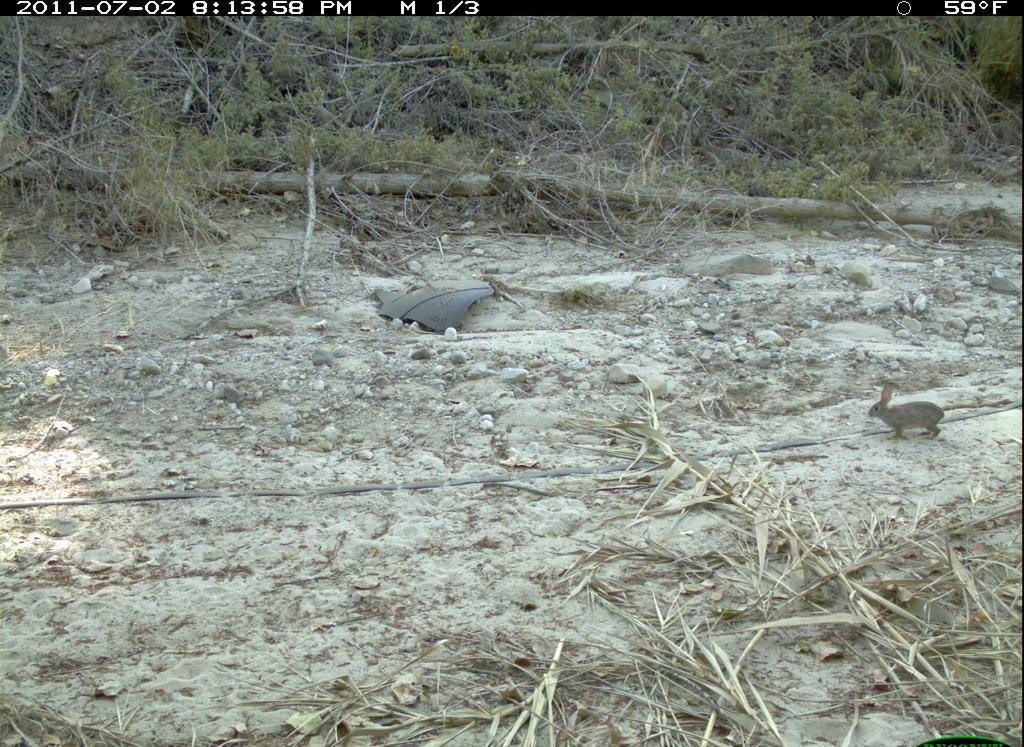rabbit: (866, 373, 959, 457)
